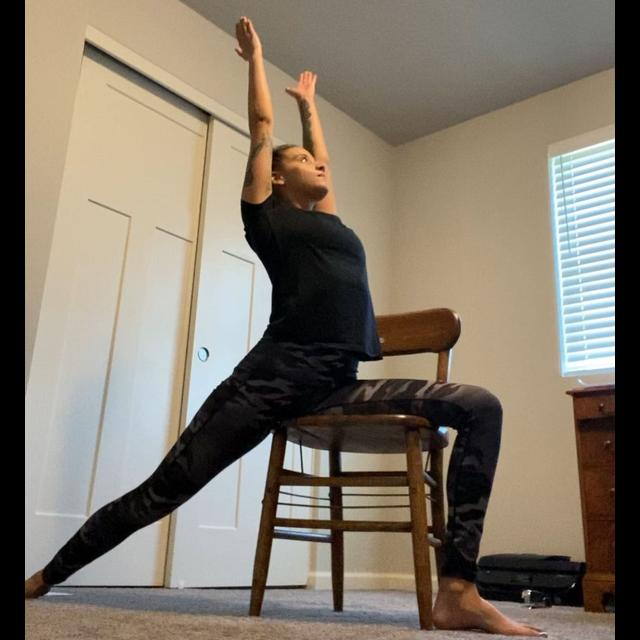Warrior_I: (26, 8, 555, 640)
